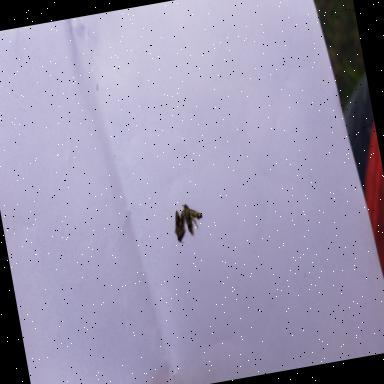pbw: (180, 201, 205, 236), (171, 209, 189, 244)
